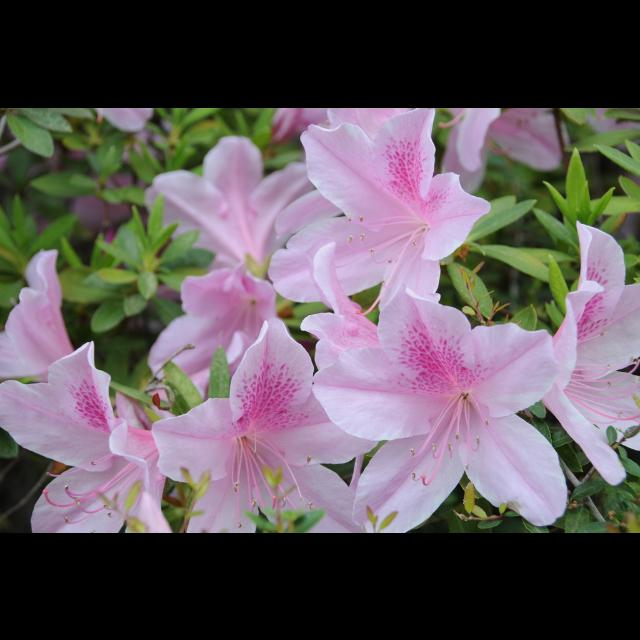Flower: (1, 108, 640, 532), (324, 304, 564, 510)
